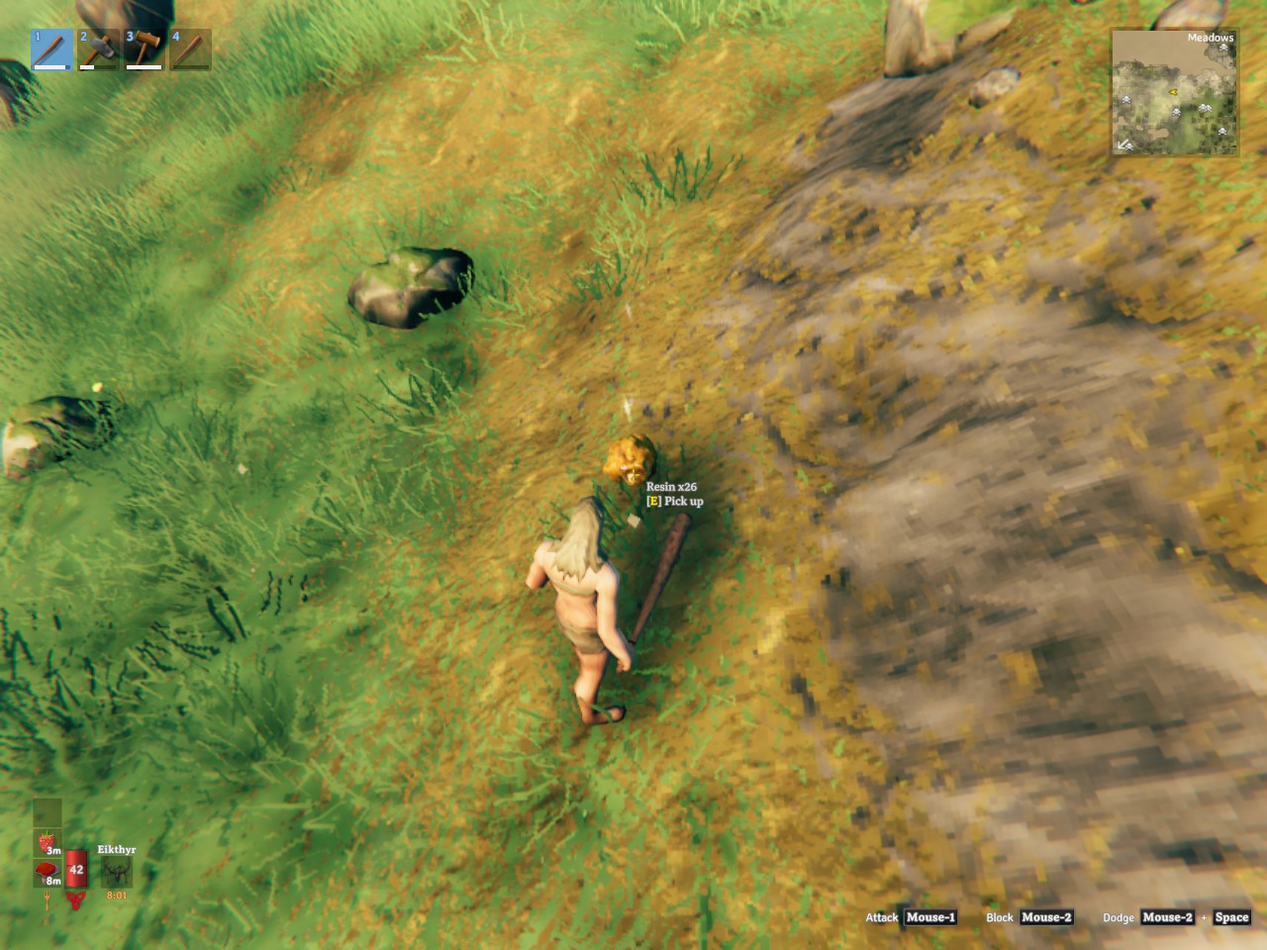Club: (628, 511, 690, 642)
Food Indicator: (36, 829, 63, 891)
Health Bar: (63, 845, 90, 891)
Hotbar: (25, 21, 398, 78)
Resin: (602, 435, 657, 487)
